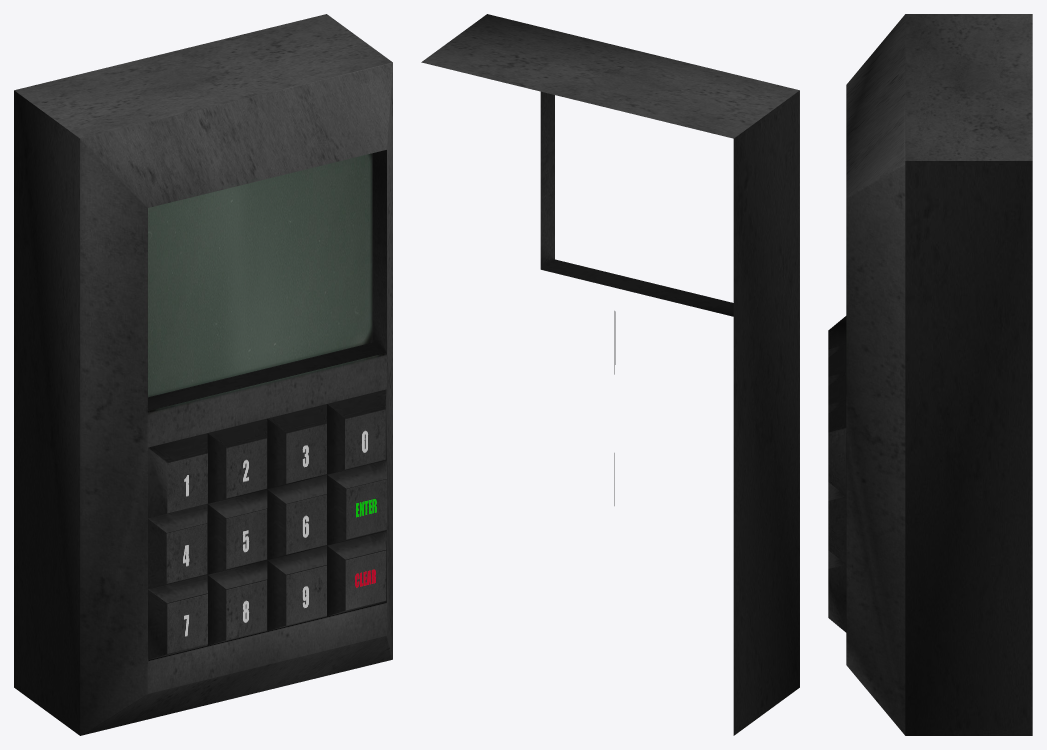
Rendered from ButtonCode.glb.
3 renders of one model, left to right at view 1: azimuth 30°, elevation 25°; view 2: azimuth 150°, elevation 25°; view 3: azimuth 270°, elevation 25°, orthographic. The views are drawn at different scales.
Visible parts, largest first — view 1: Scene_Root; view 2: Scene_Root; view 3: Scene_Root.
Part boxes in pixels (<box>): Scene_Root: <box>14,14,392,735</box>; Scene_Root: <box>421,14,799,735</box>; Scene_Root: <box>828,14,1032,735</box>.
Size of the model in its own units: 2.76 by 5.04 by 1.63.
1 material, 1 textured.
